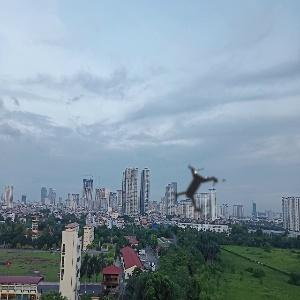drone: (148, 139, 251, 242)
